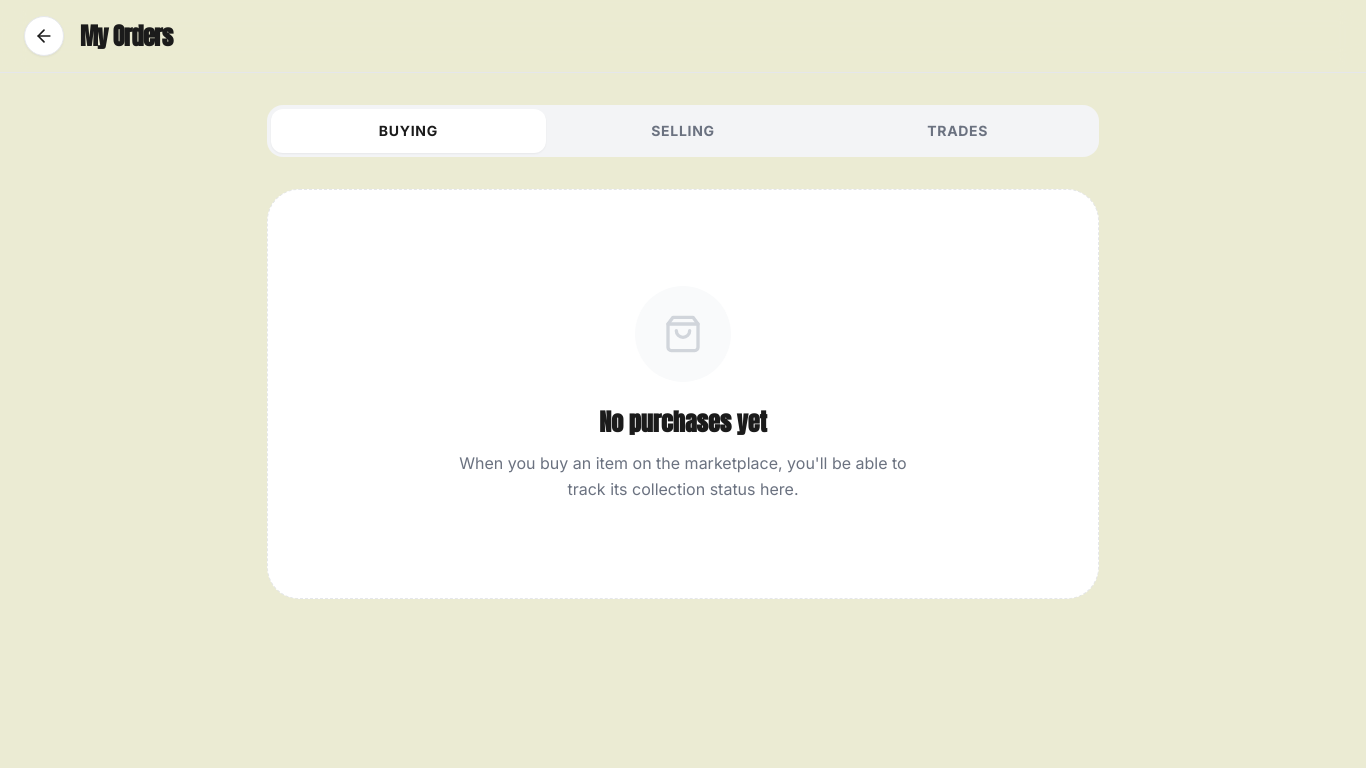
Test: MyOrders › Selling orders tab › displays selling order after switching tab
Click the tab "Selling".
click(683, 131)  # box [546,109,820,153]
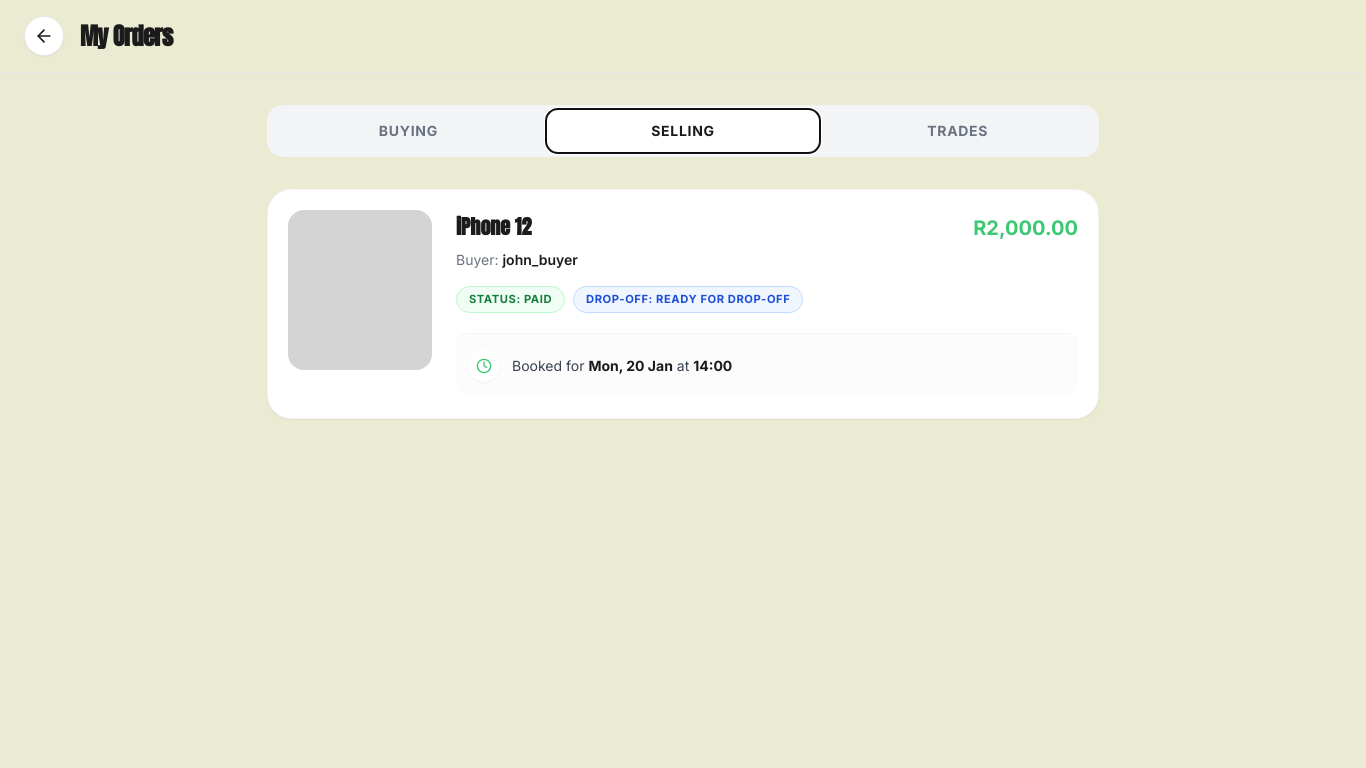
Expected: the heading "iPhone 12" is shown, [456,214,531,239]
